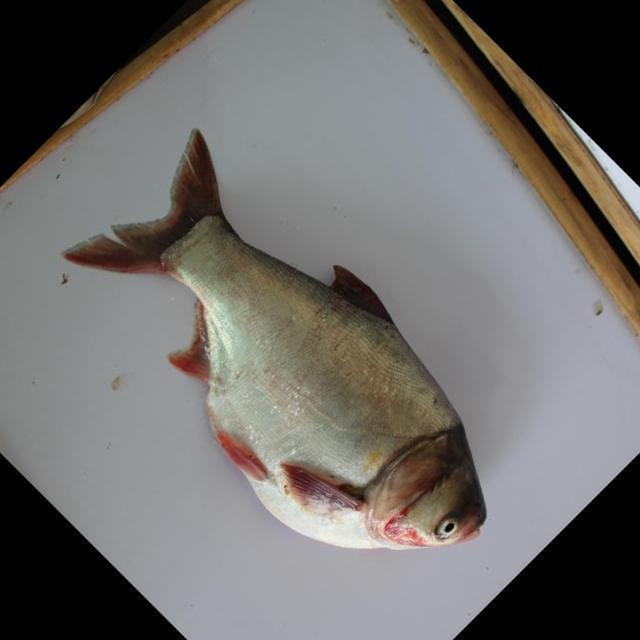SilverCarp: (77, 146, 516, 557)
